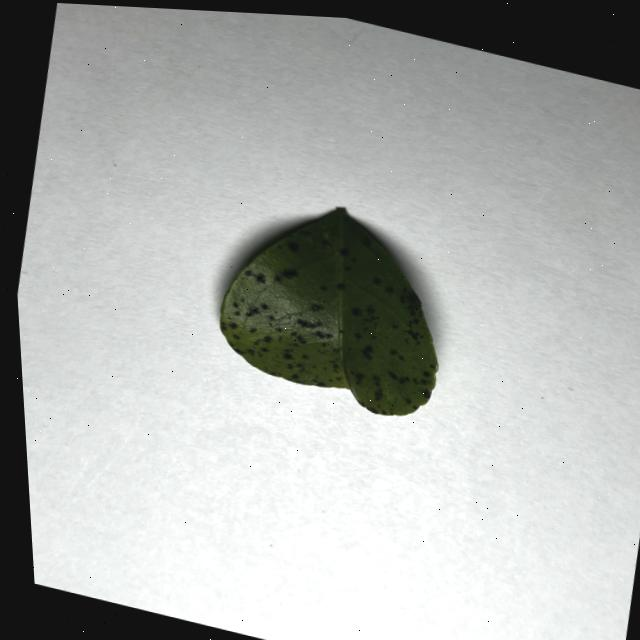sooty_mold: (219, 207, 437, 415)
